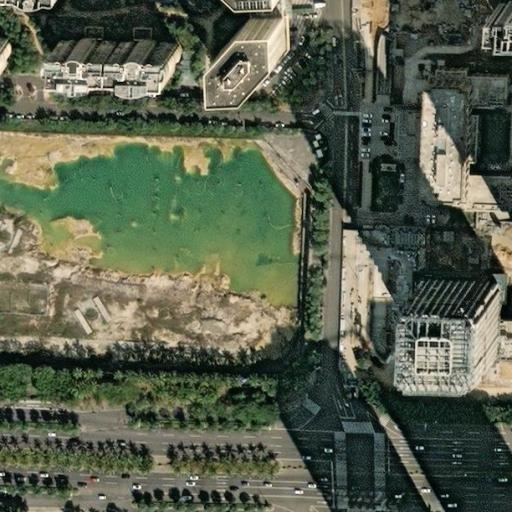building: (418, 275, 497, 351), (422, 80, 465, 198), (218, 13, 286, 83), (53, 39, 175, 76), (422, 72, 500, 105), (465, 175, 512, 203), (397, 114, 422, 163), (422, 193, 465, 207), (0, 34, 14, 74), (494, 3, 512, 33), (418, 269, 497, 275), (81, 28, 99, 44), (128, 29, 147, 44), (418, 275, 435, 286), (488, 275, 497, 289), (418, 342, 432, 351), (488, 343, 497, 351)
